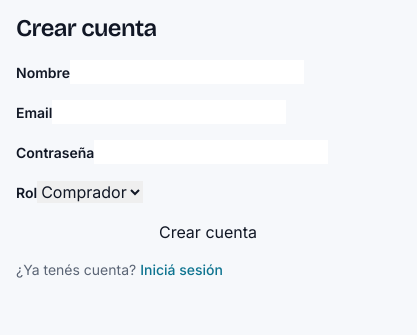
Test: RegisterPage › shows the backend error message when registration fails
Type "Alice" into the field labelled "Nombre".
click(187, 72); type("Alice")  # box [70, 60, 304, 84]
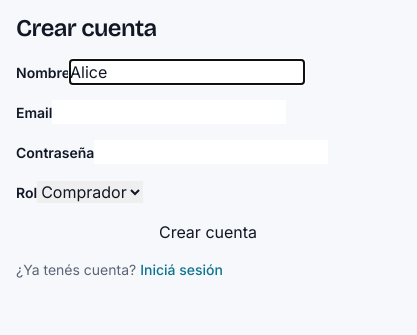
Type "a@b.com" into the field labelled "Email".
click(170, 112); type("a@b.com")  # box [52, 100, 286, 124]
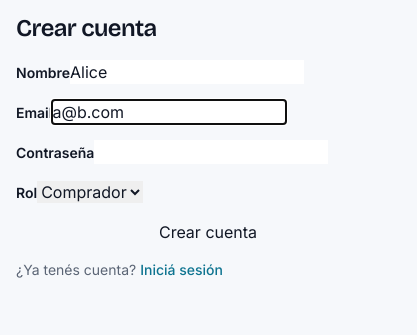
Type "secret1" into the password field labelled "Contraseña".
click(211, 152); type("secret1")  # box [94, 140, 328, 164]
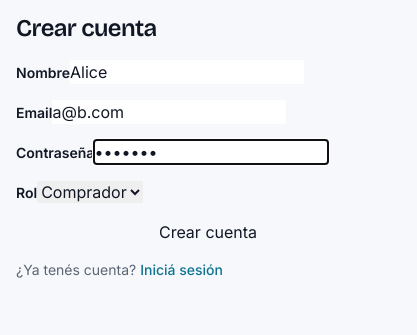
Click the button "Crear cuenta".
click(208, 232)  # box [16, 220, 400, 244]
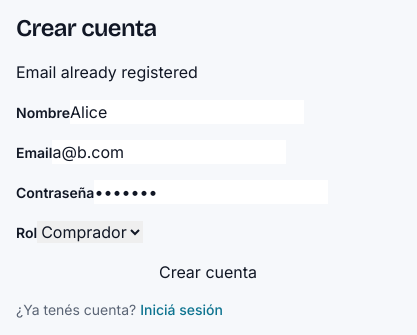
Expected: the message reads "Email already registered", [16, 62, 198, 82]
